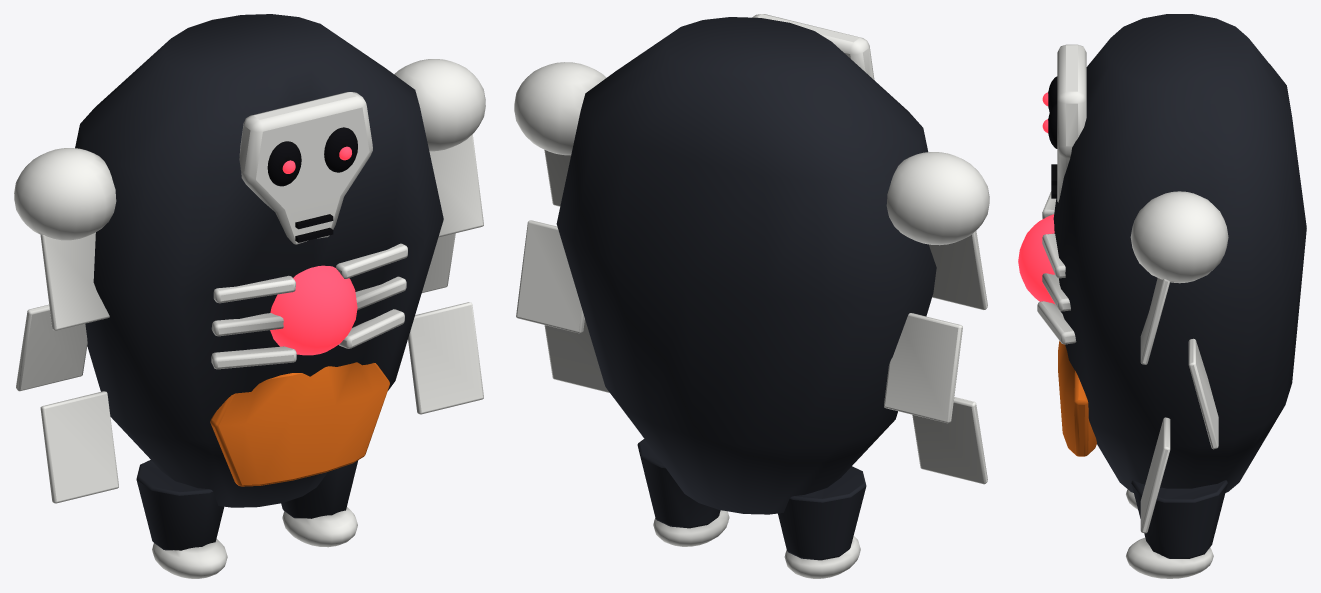
File: alien_bulwark.glb
The picture shows the model from 3 angles, left to right: view 1: azimuth 30°, elevation 25°; view 2: azimuth 150°, elevation 25°; view 3: azimuth 270°, elevation 25°; orthographic projection. The views are drawn at different scales.
Parts seen in each view (by area): view 1: body, belly, skull, shoulder, ribbon.002, ribbon.005, core, shoulder.001, leg, ribbon, ribbon.001, ribbon.003 (+12 smaller); view 2: body, shoulder, ribbon.001, shoulder.001, leg, ribbon.004, ribbon.002, ribbon, leg.001, ribbon.005, foot, skull (+2 smaller); view 3: body, shoulder.001, leg.001, skull, belly, core, foot.001, ribbon.005, ribbon.004, ribbon.003, rib.005, rib.004 (+1 smaller).
Boxes of the visible parts, box(x1,y1,x2,y2) form: body: box(75, 14, 443, 507); belly: box(210, 362, 389, 486); skull: box(239, 92, 372, 244); shoulder: box(14, 148, 116, 240); ribbon.002: box(40, 391, 118, 503); ribbon.005: box(408, 302, 483, 414); core: box(270, 265, 357, 355); shoulder.001: box(394, 59, 485, 151); leg: box(136, 460, 224, 550); ribbon: box(40, 232, 109, 330); ribbon.001: box(16, 304, 87, 391); ribbon.003: box(429, 134, 483, 237); body: box(556, 17, 936, 514); shoulder: box(886, 152, 989, 245); ribbon.001: box(884, 313, 962, 423); shoulder.001: box(514, 62, 606, 155); leg: box(778, 466, 866, 560); ribbon.004: box(516, 220, 584, 333); ribbon.002: box(912, 397, 987, 484); ribbon: box(929, 230, 987, 309); leg.001: box(637, 439, 720, 528); ribbon.005: box(544, 319, 609, 392); foot: box(784, 536, 860, 578); skull: box(752, 14, 874, 79); body: box(1053, 14, 1306, 492); shoulder.001: box(1130, 191, 1228, 283); leg.001: box(1131, 480, 1227, 558); skull: box(1057, 44, 1086, 202); belly: box(1058, 341, 1096, 456); core: box(1018, 214, 1055, 304); foot.001: box(1126, 537, 1213, 578); ribbon.005: box(1140, 417, 1170, 533); ribbon.004: box(1188, 338, 1218, 449); ribbon.003: box(1140, 278, 1170, 364); rib.005: box(1037, 301, 1076, 344); rib.004: box(1042, 273, 1070, 311).
Size of the model in its own units: 2.12 by 2.22 by 1.18.
